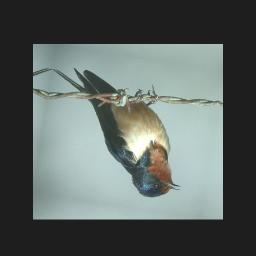Swallow: (35, 64, 197, 203)
